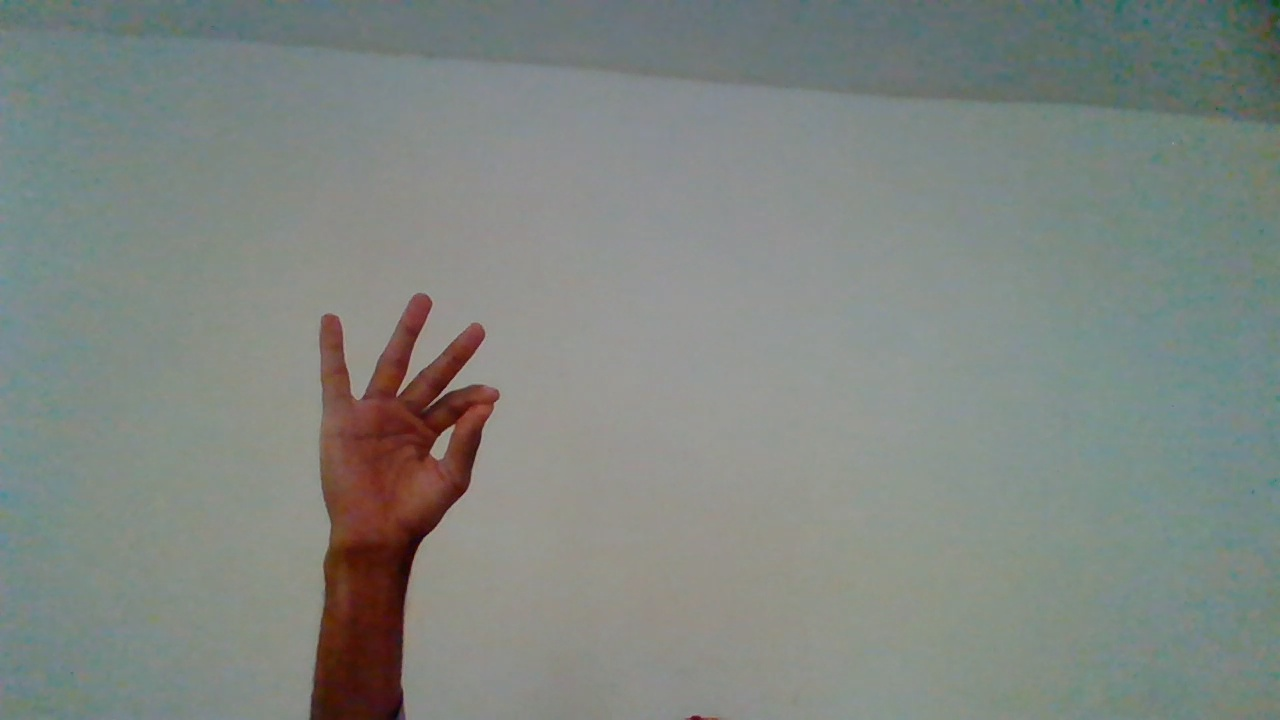le: (312, 287, 501, 687)
